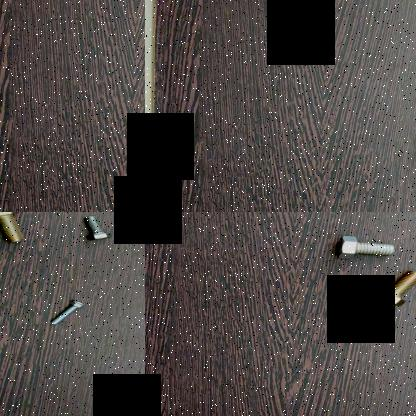Bolts: (330, 232, 400, 262), (371, 268, 416, 308), (0, 212, 33, 250), (76, 212, 112, 246), (46, 298, 92, 324)
